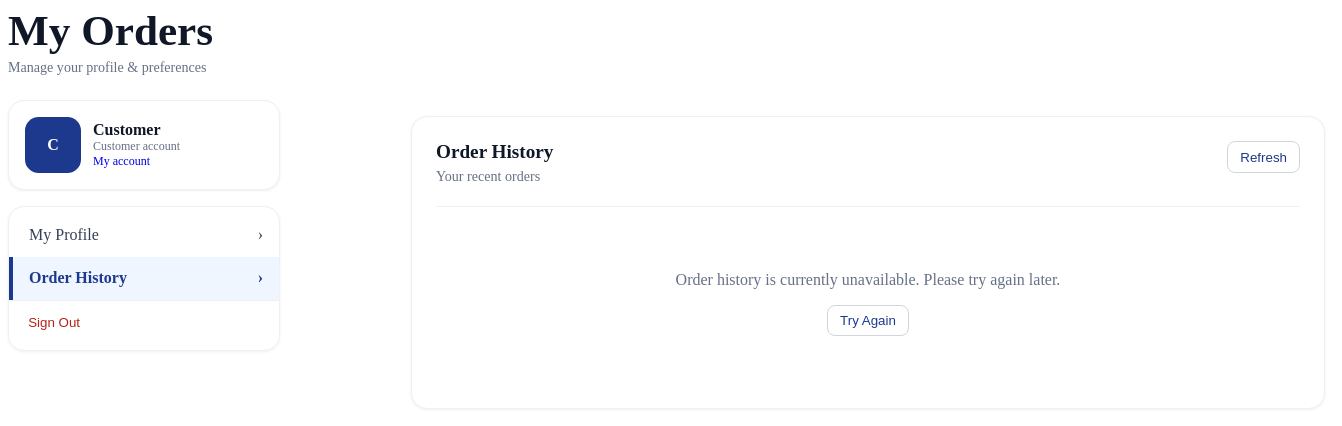
Scenario: OrderHistoryPage › explains a missing history endpoint and retries
Expected: the text "Order history is currently unavailable" is shown, [676,271,1060,288]
Click the button "Try Again": point(868, 321) [827,305,909,336]
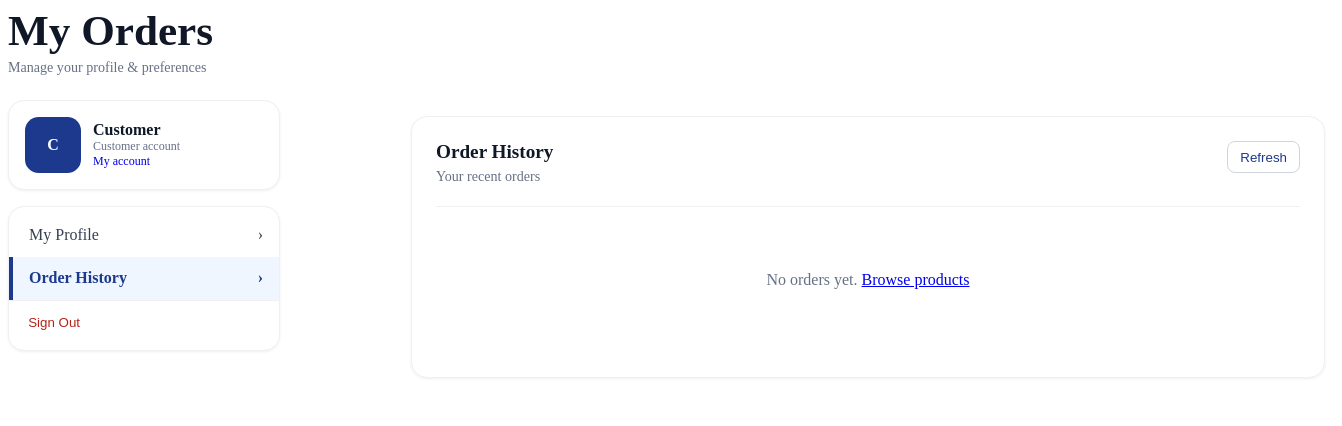
Result: the text "No orders yet. Browse products" is shown at [766,271,970,288]
